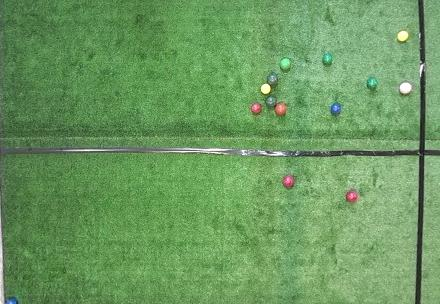blue: (331, 103, 341, 114), (7, 297, 19, 303)
green: (280, 58, 291, 70), (267, 74, 277, 85), (367, 78, 377, 89), (323, 54, 332, 65), (266, 96, 275, 106)
red: (400, 82, 412, 94), (346, 191, 358, 202), (275, 103, 286, 115), (283, 176, 294, 187), (251, 103, 261, 114)
vline: (414, 1, 440, 303), (0, 1, 8, 303)
white: (3, 302, 9, 303)
yellow: (397, 31, 409, 42), (261, 83, 271, 94)
